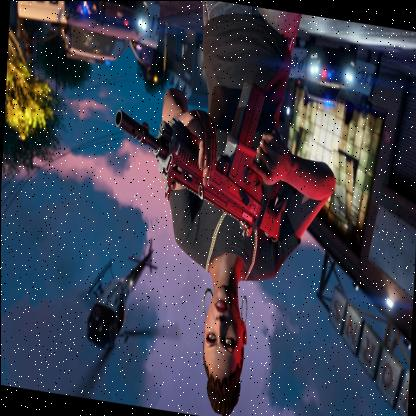rifle: (105, 64, 289, 246)
